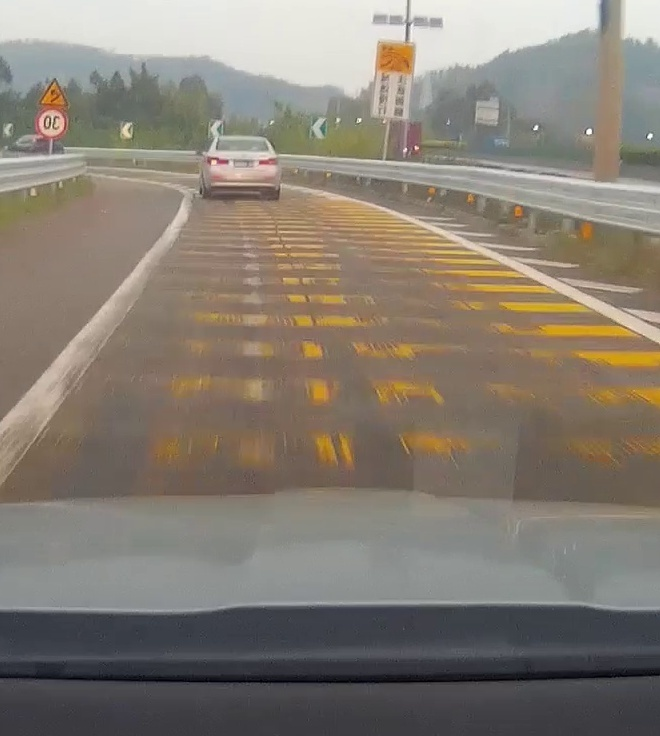L_light: (207, 156, 228, 166)
R_light: (258, 158, 279, 165)
T_light: (238, 139, 249, 141)
day-left: (204, 136, 281, 198)
